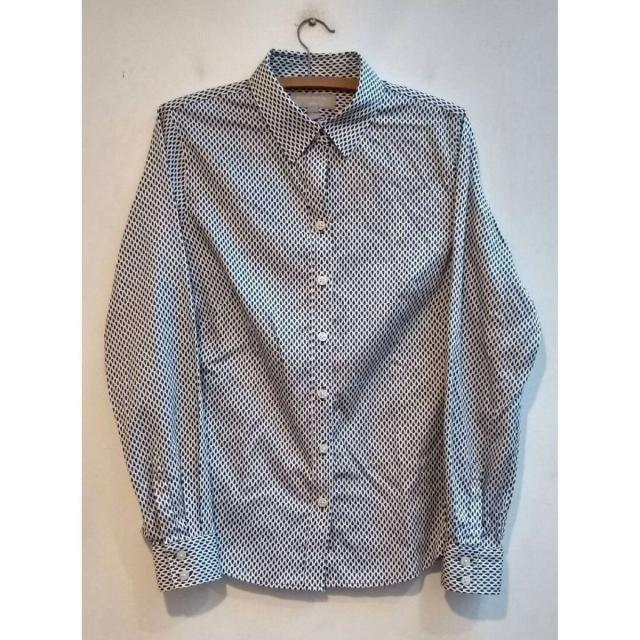long sleeve shirt: (99, 47, 544, 601)
